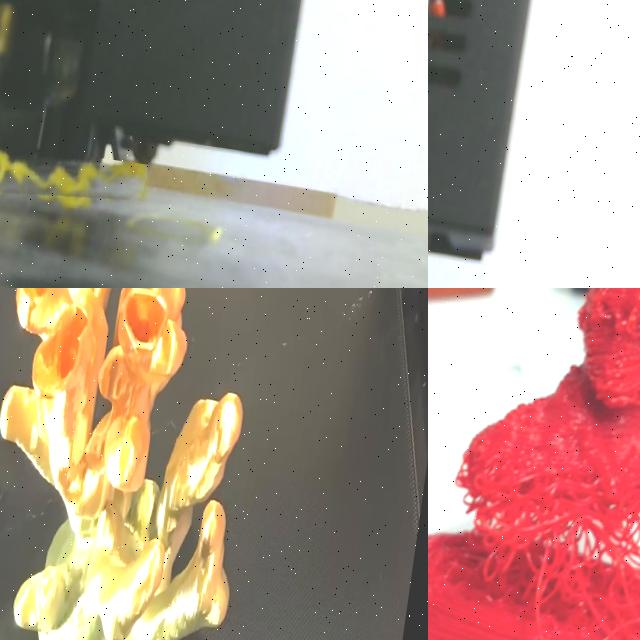spaghetti: (441, 478, 640, 640), (0, 152, 148, 199)
